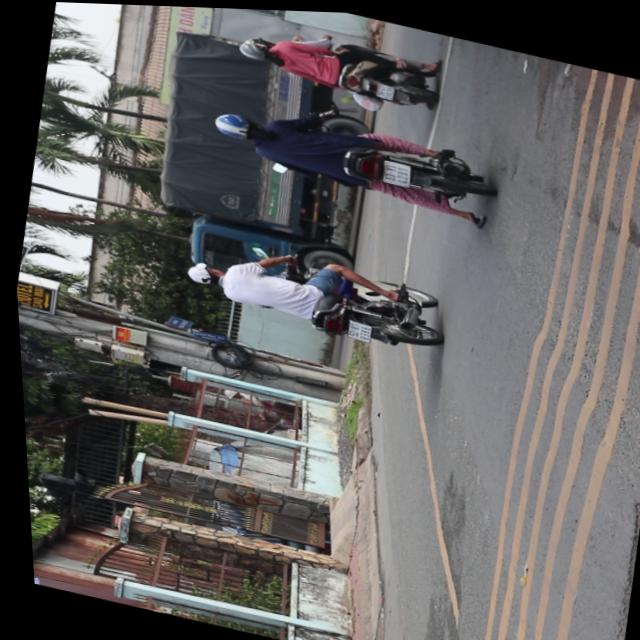helmet: (209, 107, 264, 144), (234, 35, 276, 64)
licenseplate: (202, 90, 499, 226), (171, 228, 448, 360), (231, 15, 444, 115)
motorcyclist: (181, 258, 221, 286)
nohelmet: (379, 157, 411, 185), (342, 318, 368, 340), (374, 80, 394, 97)
